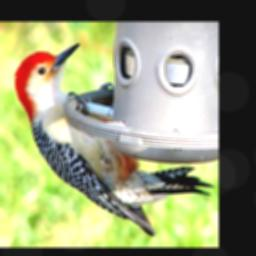Woodpecker: (14, 42, 214, 237)
